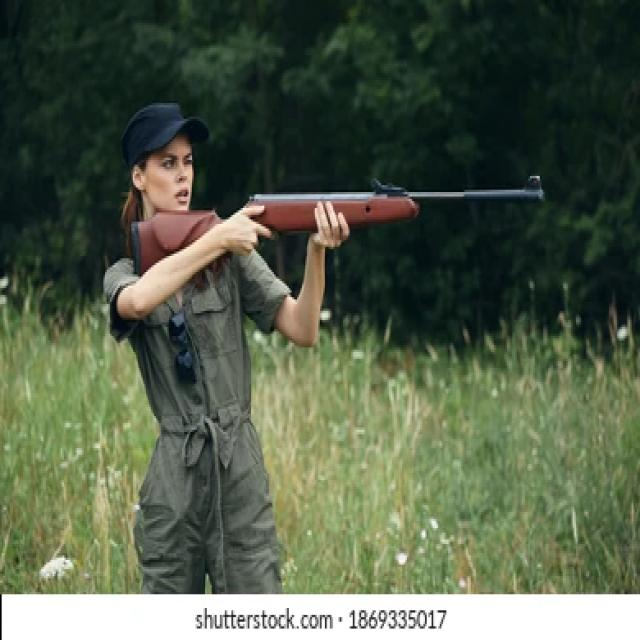soldier: (98, 76, 499, 595)
